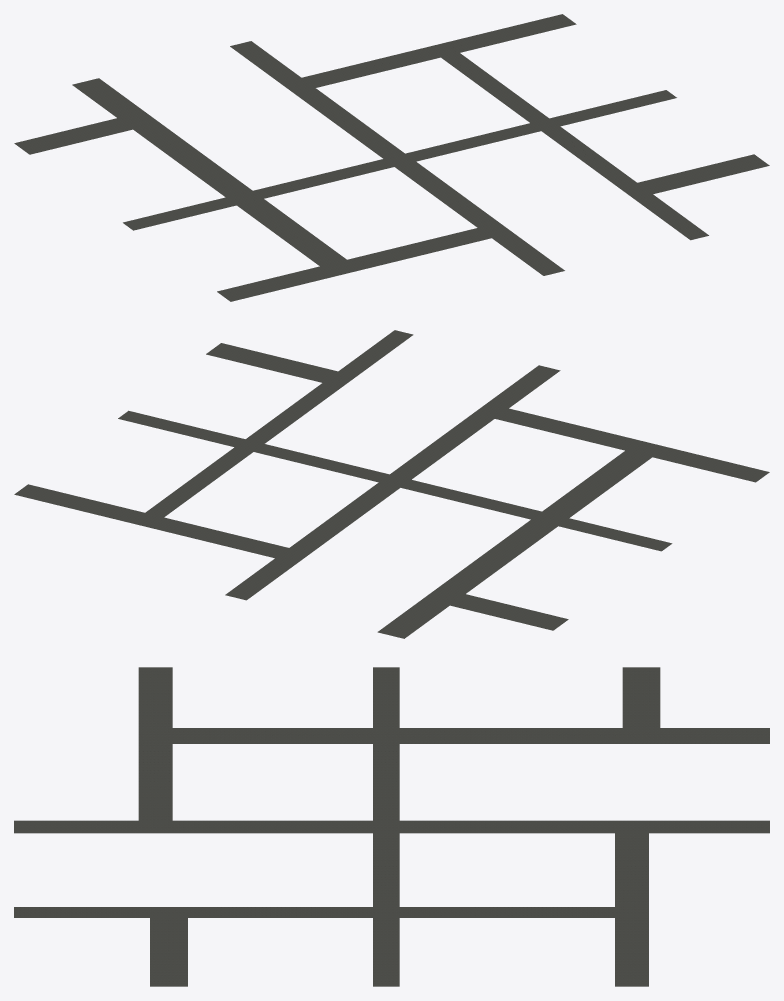
File: Tile1.FBX
3 views of the same model, one above another, from view 1: azimuth 30°, elevation 25°; view 2: azimuth 150°, elevation 25°; view 3: azimuth 270°, elevation 25° (orthographic). The views are drawn at different scales.
Parts seen in each view (by area): view 1: Road; view 2: Road; view 3: Road.
Part boxes in pixels (x1=…): Road: x1=14, y1=14, x2=769, y2=301; Road: x1=14, y1=330, x2=769, y2=638; Road: x1=14, y1=667, x2=769, y2=986.
Size of the model in its own units: 1000 by 6.12e-14 by 1000.
